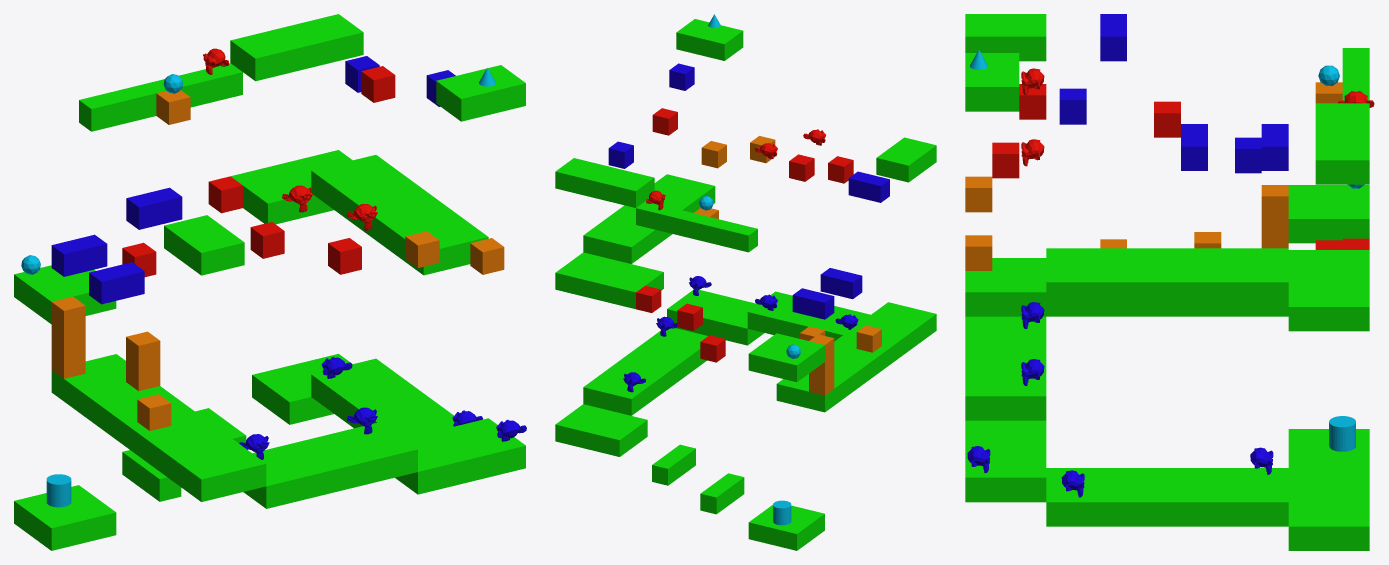
3 views of the same model, side by side, from view 1: azimuth 30°, elevation 25°; view 2: azimuth 150°, elevation 25°; view 3: azimuth 270°, elevation 25° (orthographic). The views are drawn at different scales.
Parts seen in each view (by area): view 1: Cube.192, Cube.274, Cube.031, Cube.023, Cube.012, Cube.340, Cube.333, Cube.047, Cube.050, Cube.358, Cube.322, Cube.008 (+18 smaller); view 2: Cube.192, Cube.023, Cube.274, Cube.050, Cube.008, Cube.340, Cube.333, Cube.012, Cube.031, Cube.257, Cube.047, Cube.358 (+17 smaller); view 3: Cube.274, Cube.023, Cube.031, Cube.050, Cube.192, Cube.012, Cube.008, Cube.257, Cube.340, Cube.322, Cube.358, Cube.047 (+16 smaller).
Boxes of the visible parts, x1,y1,x2,y2 form: Cube.192: (51,354,266,501); Cube.274: (311,155,488,275); Cube.031: (243,422,417,508); Cube.023: (311,358,454,438); Cube.012: (395,418,525,494); Cube.340: (230,14,363,81); Cube.333: (79,63,242,131); Cube.047: (14,485,116,550); Cube.050: (231,150,352,224); Cube.358: (436,65,525,121); Cube.322: (164,215,244,275); Cube.008: (252,354,352,424); Cube.192: (776,302,936,412); Cube.023: (583,328,707,415); Cube.274: (583,174,715,263); Cube.050: (555,252,663,309); Cube.008: (555,404,647,456); Cube.340: (555,158,654,207); Cube.333: (636,201,757,252); Cube.012: (667,290,764,345); Cube.031: (747,291,870,341); Cube.257: (748,333,824,382); Cube.047: (748,505,824,550); Cube.358: (676,19,743,60); Cube.274: (1046,248,1288,306); Cube.023: (1046,468,1288,526); Cube.031: (965,316,1046,420); Cube.050: (1288,250,1369,331); Cube.192: (965,258,1288,316); Cube.012: (965,420,1046,502); Cube.008: (1288,481,1369,550); Cube.257: (1288,185,1369,243); Cube.340: (1315,103,1369,184); Cube.322: (965,14,1046,61); Cube.358: (965,53,1019,111); Cube.047: (1288,429,1369,461).
Bounding box in the file's own units: 3037 × 4568 × 3037.
